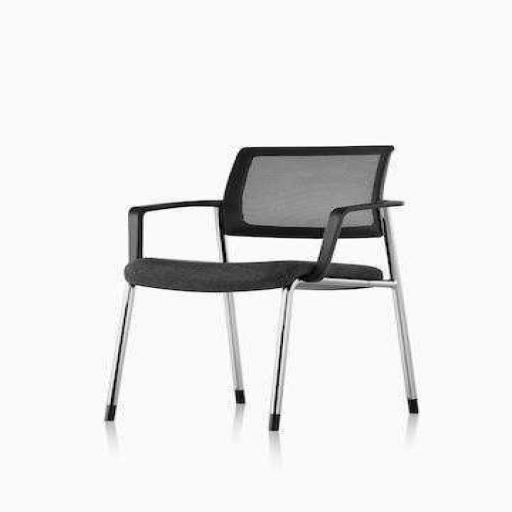chair: (92, 139, 442, 437)
